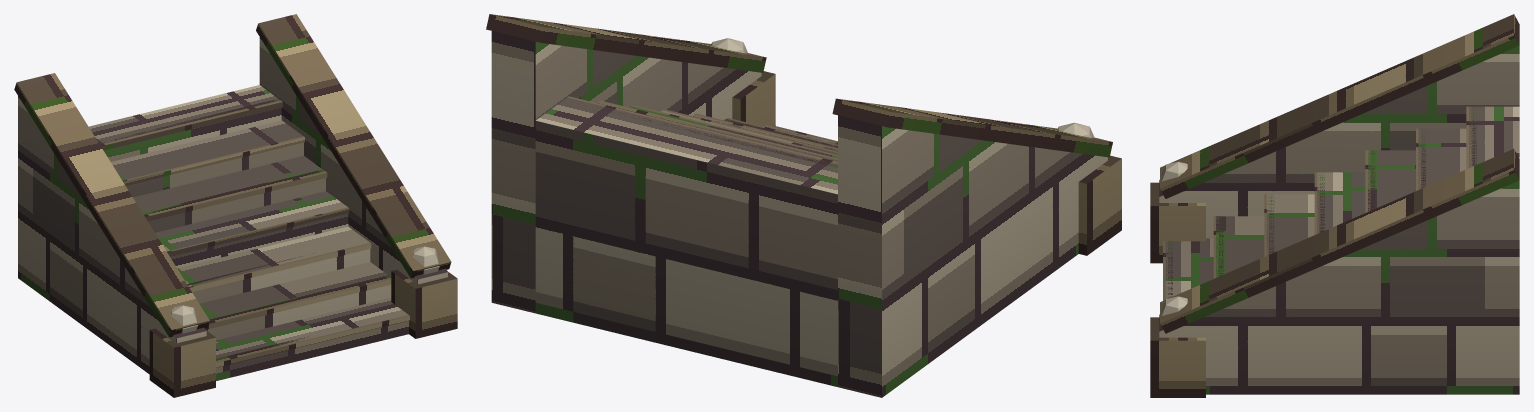
The model's file is scene_stair_plat_g7.glb.
3 renders of one model, left to right at view 1: azimuth 30°, elevation 25°; view 2: azimuth 150°, elevation 25°; view 3: azimuth 270°, elevation 25°, orthographic. The views are drawn at different scales.
Visible parts, largest first — view 1: scene_stair_plat_g7; view 2: scene_stair_plat_g7; view 3: scene_stair_plat_g7.
Boxes of the visible parts, x1=… form: scene_stair_plat_g7: x1=14, y1=14, x2=457, y2=397; scene_stair_plat_g7: x1=486, y1=14, x2=1121, y2=397; scene_stair_plat_g7: x1=1150, y1=14, x2=1519, y2=397.
Size of the model in its own units: 2.96 by 1.98 by 2.92.
2 materials, 1 textured.
